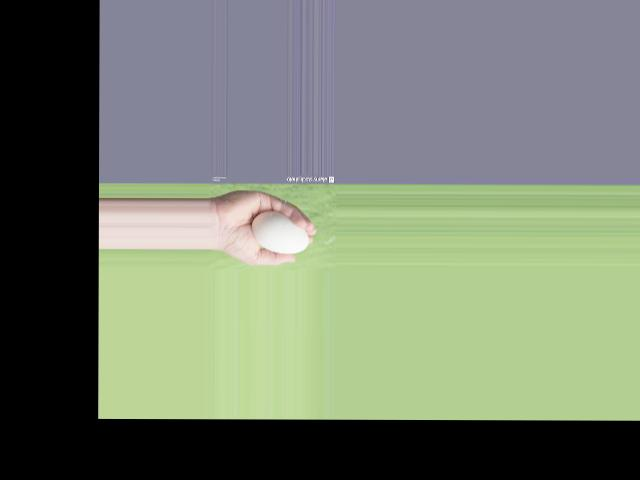egg: (250, 210, 308, 253)
